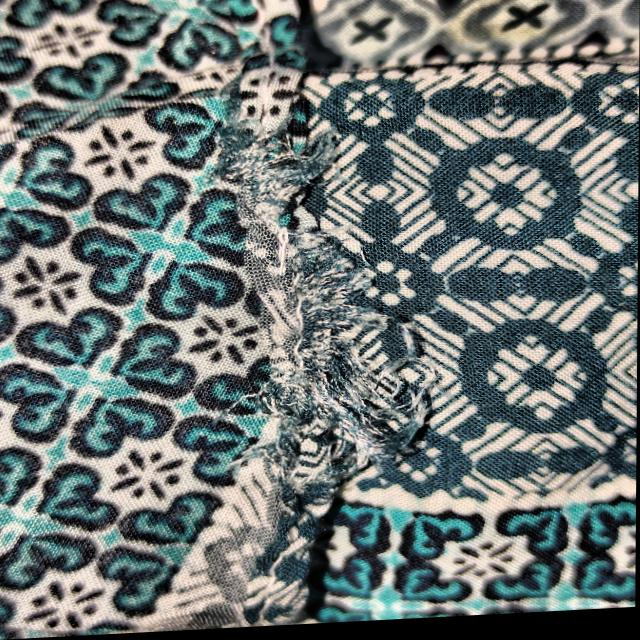Stitch: (211, 99, 404, 544)
